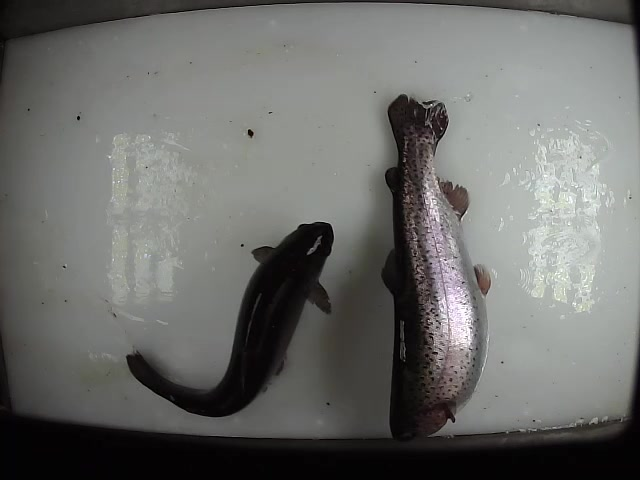fish: (124, 219, 335, 422), (380, 92, 495, 448)
